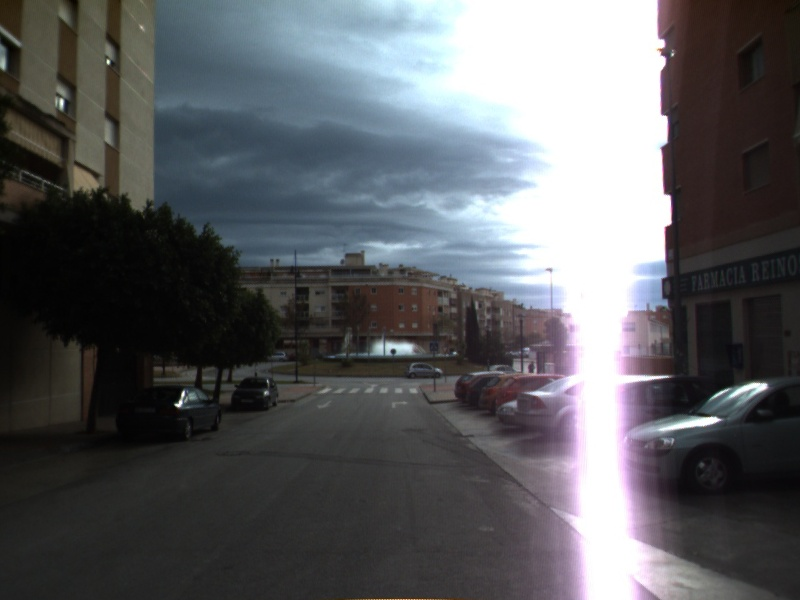RIGHT: (390, 398, 410, 410)
